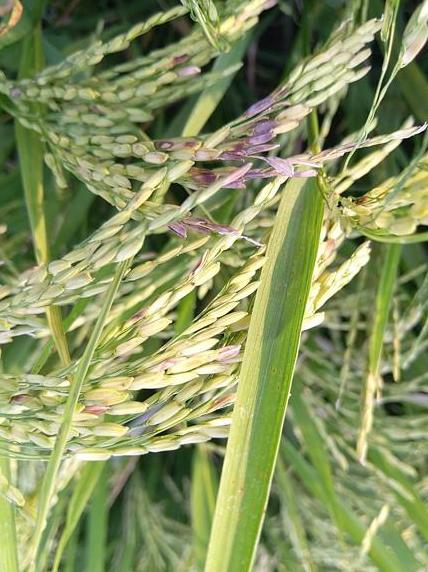Panicle Blight: (133, 48, 338, 190), (168, 215, 236, 237), (74, 398, 120, 422), (344, 191, 382, 216), (7, 387, 38, 413), (208, 339, 241, 363), (167, 54, 201, 76), (210, 388, 231, 410), (190, 253, 206, 278), (126, 307, 147, 324)
